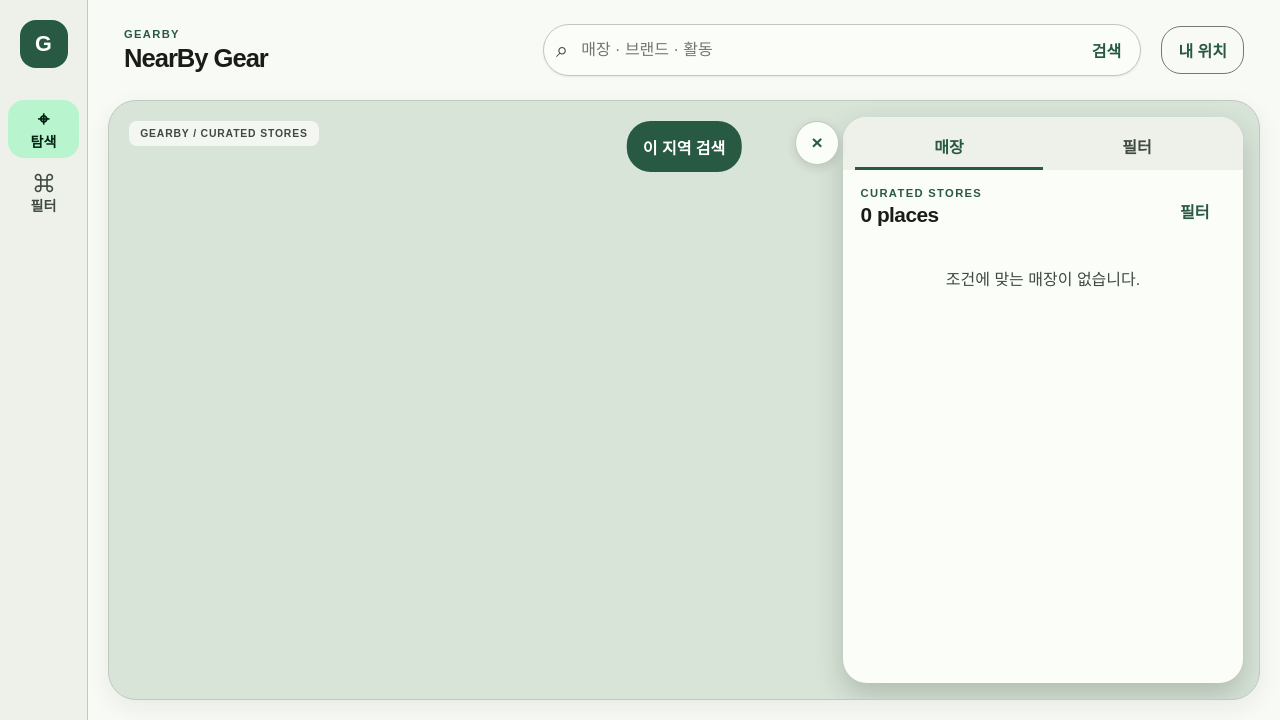
Test case: Discovery › waits for explicit area search before requesting pending map bounds
This screenshot has width=1280, height=720.
Click the button "이 지역 검색".
click(684, 147)  # box x1=627 y1=121 x2=741 y2=172
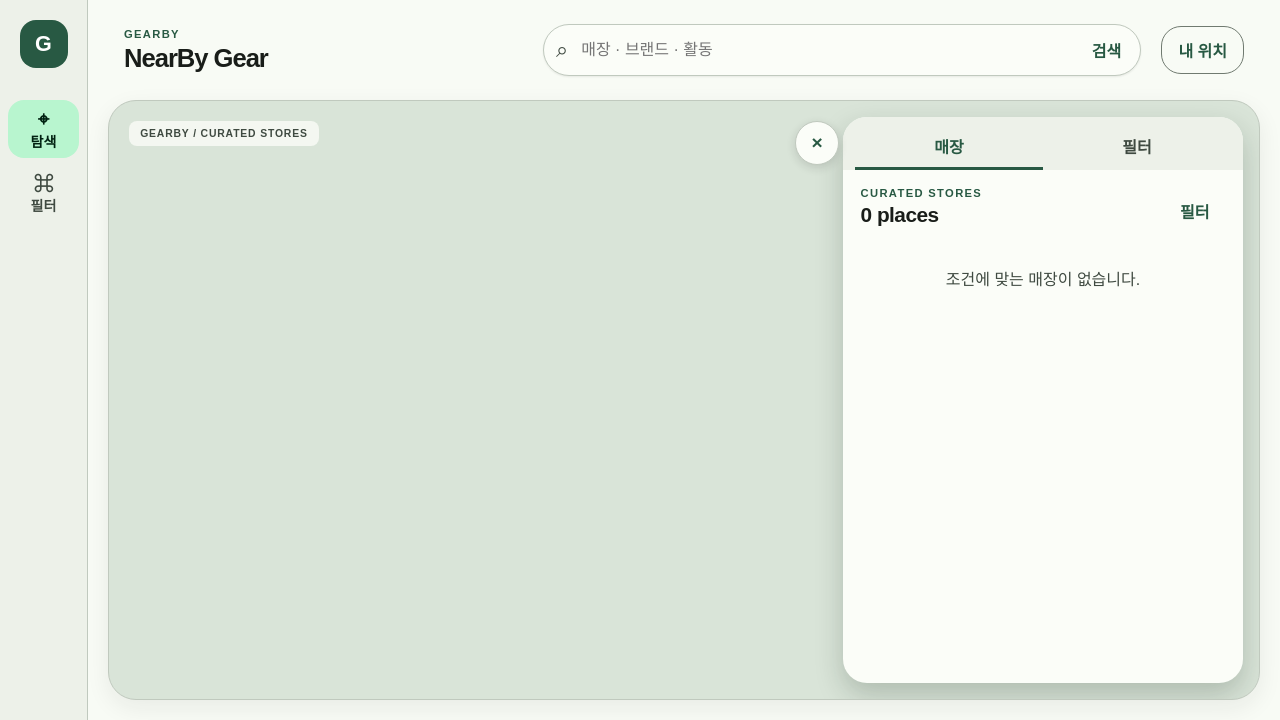
Check: the button "이 지역 검색" is gone
